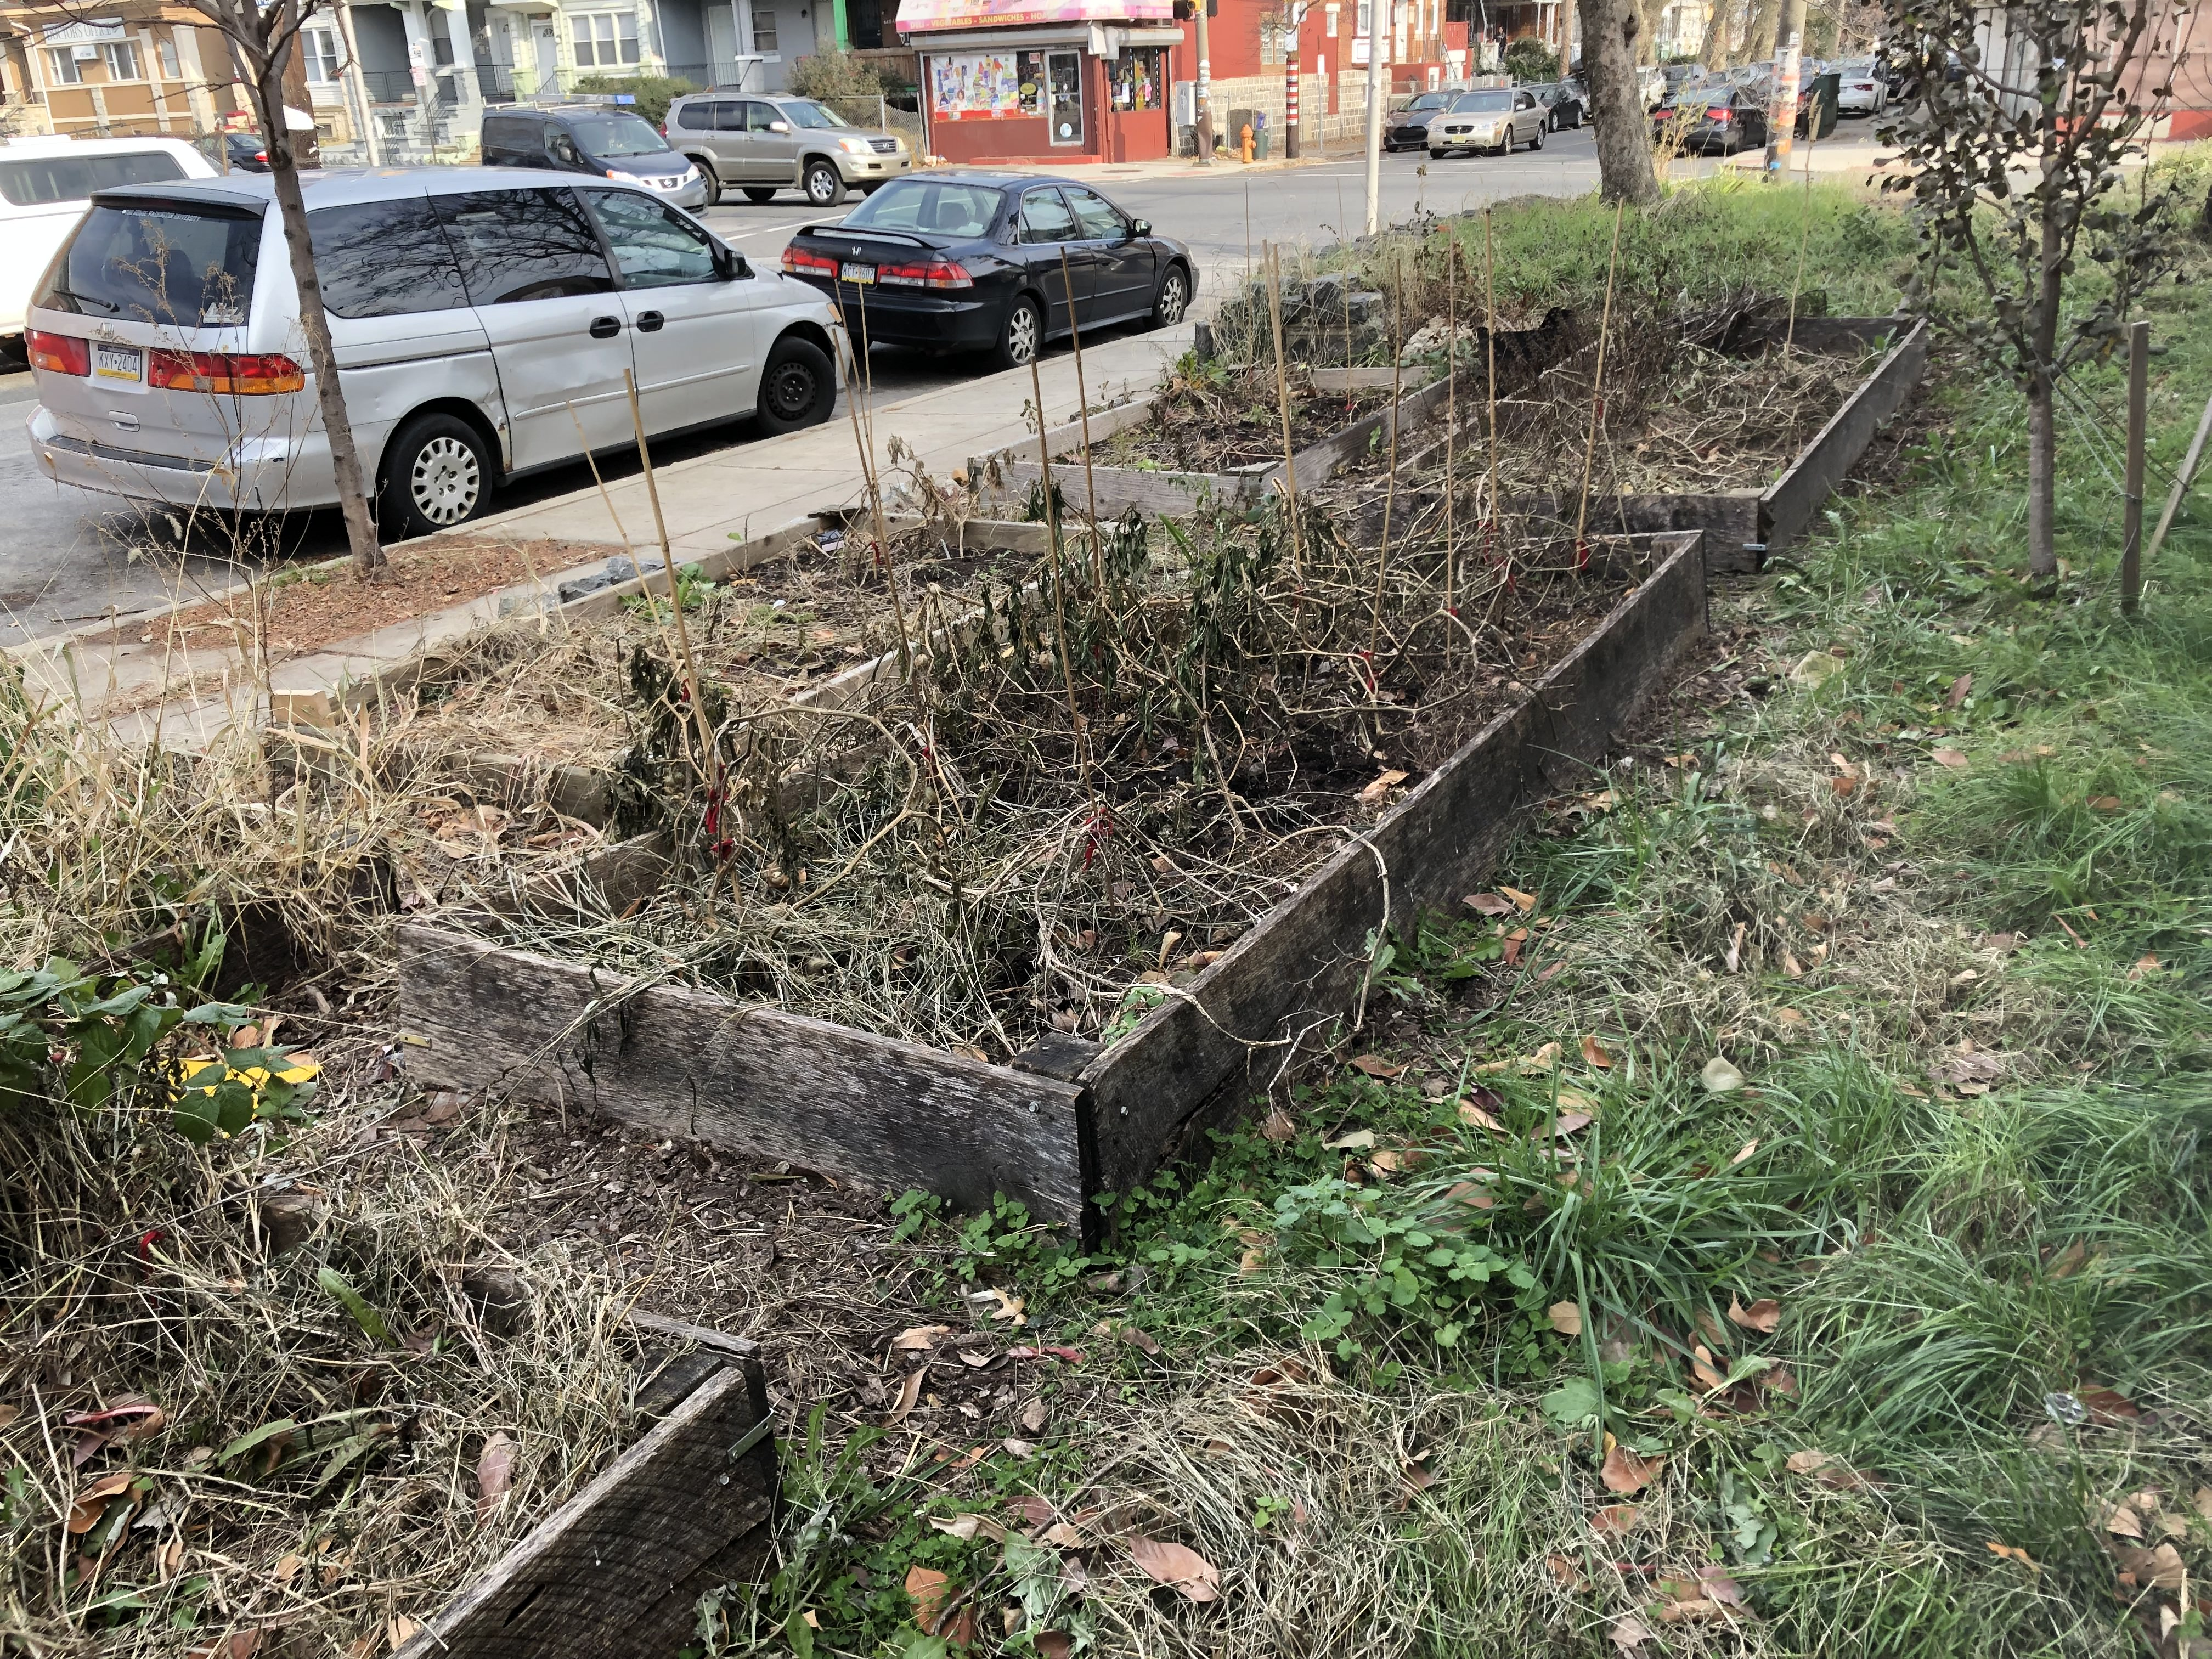raised_bed: (347, 518, 1759, 1206), (193, 498, 1136, 889), (1395, 288, 1984, 556), (1001, 338, 1477, 540)
rough_lawn: (1270, 582, 2198, 1593)
tree: (1853, 14, 2165, 615)
